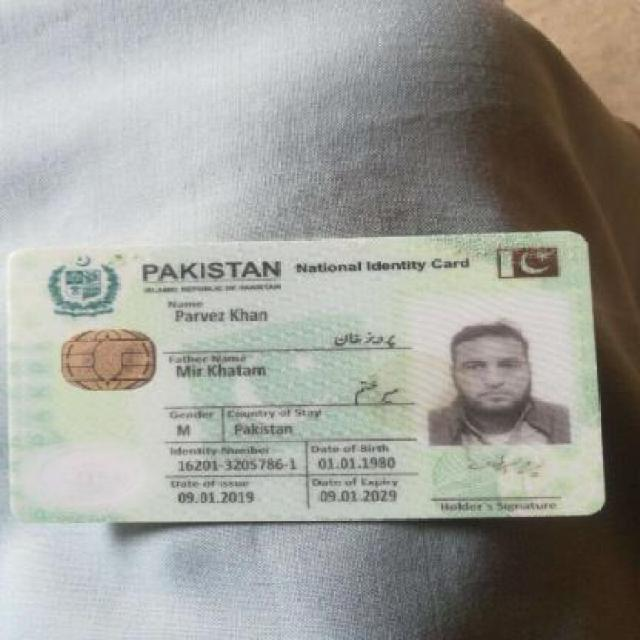Front: (8, 240, 612, 523)
